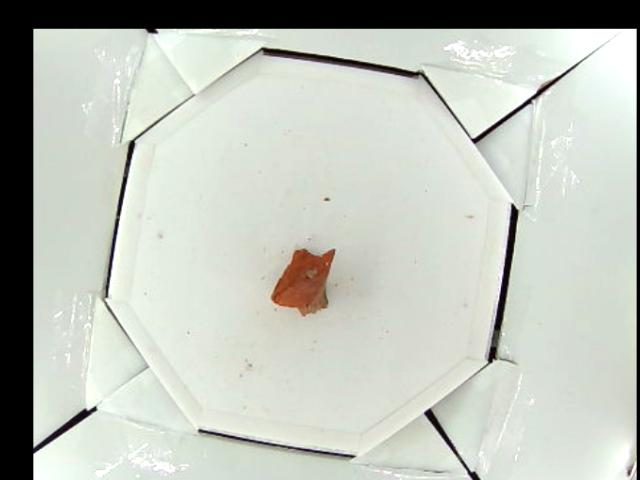Brisk: (270, 245, 334, 314)
